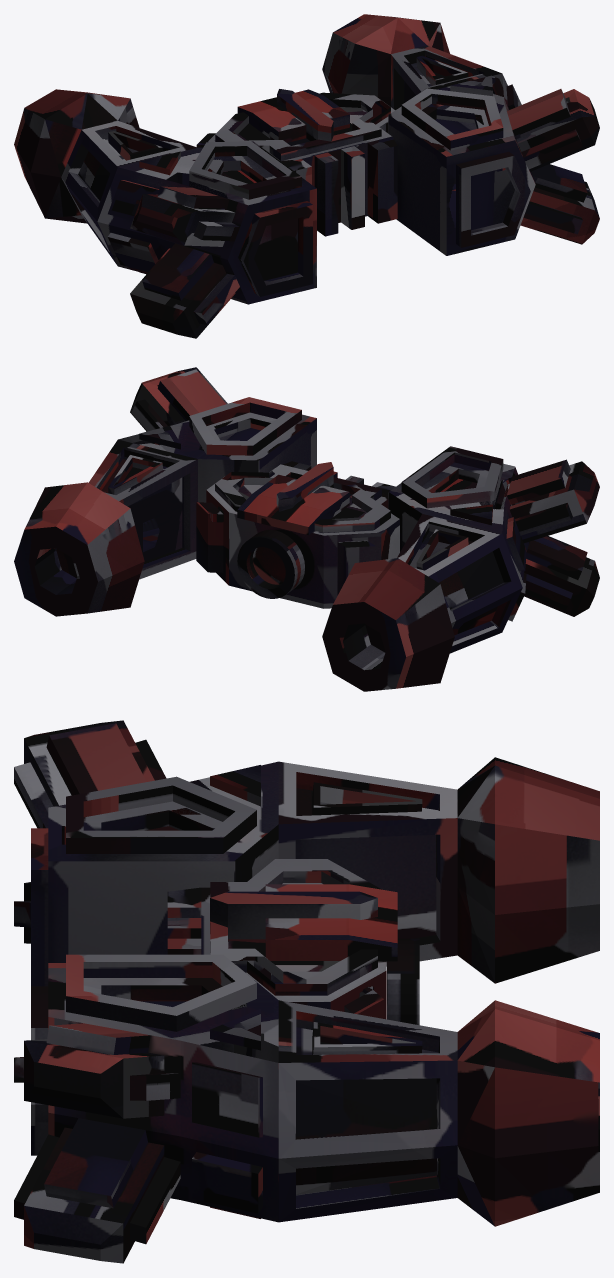
File: usership-red.obj
3 views of the same model, one above another, from view 1: azimuth 30°, elevation 25°; view 2: azimuth 150°, elevation 25°; view 3: azimuth 270°, elevation 25° (orthographic). The views are drawn at different scales.
Visible parts, largest first — view 1: Spaceship.004_Spaceship-mesh.004_Cockpit-body, Spaceship.004_Spaceship-mesh.004_Wings, Spaceship.004_Spaceship-mesh.004_Headplate; view 2: Spaceship.004_Spaceship-mesh.004_Cockpit-body, Spaceship.004_Spaceship-mesh.004_Wings, Spaceship.004_Spaceship-mesh.004_Headplate; view 3: Spaceship.004_Spaceship-mesh.004_Cockpit-body, Spaceship.004_Spaceship-mesh.004_Wings, Spaceship.004_Spaceship-mesh.004_Headplate.
Part boxes in pixels (x1,y1,x2,y2): Spaceship.004_Spaceship-mesh.004_Cockpit-body: (61, 45, 535, 304); Spaceship.004_Spaceship-mesh.004_Wings: (14, 14, 599, 338); Spaceship.004_Spaceship-mesh.004_Headplate: (237, 89, 349, 142); Spaceship.004_Spaceship-mesh.004_Cockpit-body: (88, 397, 529, 653); Spaceship.004_Spaceship-mesh.004_Wings: (14, 367, 599, 691); Spaceship.004_Spaceship-mesh.004_Headplate: (237, 474, 349, 534); Spaceship.004_Spaceship-mesh.004_Cockpit-body: (31, 761, 457, 1222); Spaceship.004_Spaceship-mesh.004_Wings: (14, 720, 599, 1263); Spaceship.004_Spaceship-mesh.004_Headplate: (265, 884, 397, 961).
Size of the model in its own units: 9.66 by 2.71 by 6.66.
